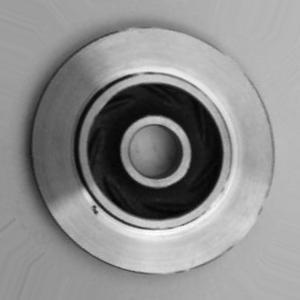defect: (69, 183, 122, 233)
